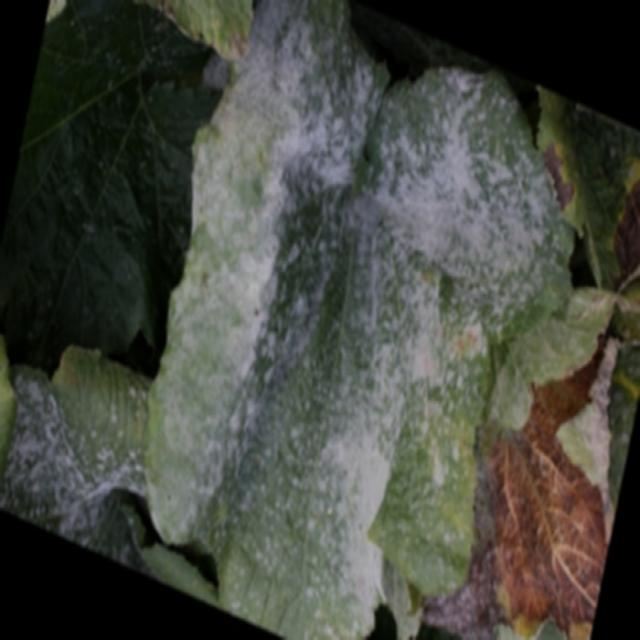Powdery Mildew: (164, 34, 586, 513)
